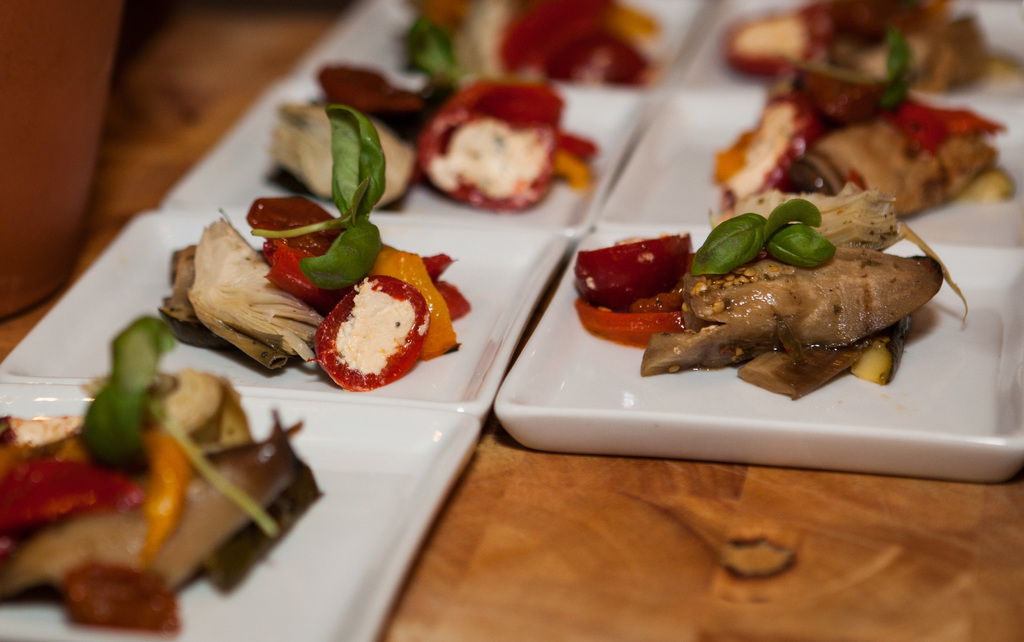face: (442, 118, 556, 213)
